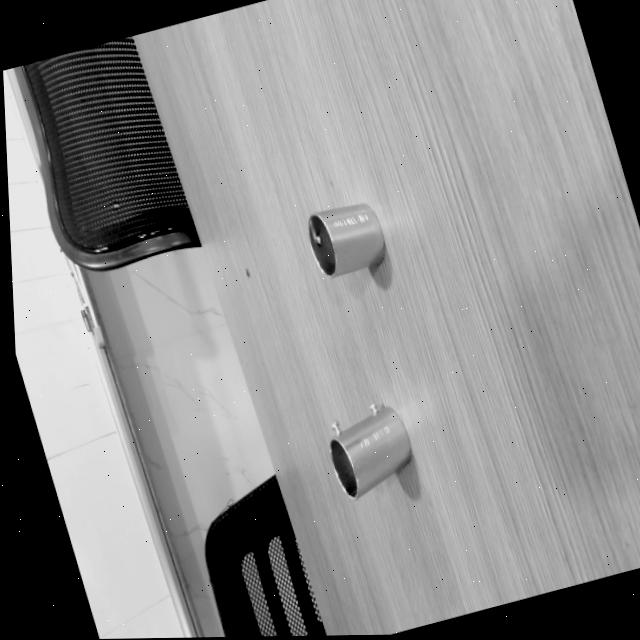Co_Lon: (311, 392, 424, 506)
Co_Nho: (301, 197, 389, 281)
